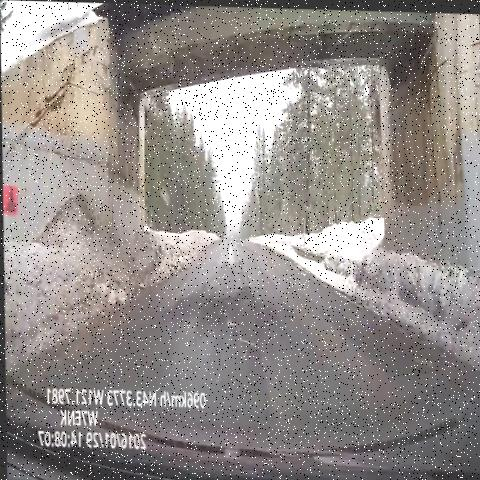pothole: (202, 292, 269, 368)
